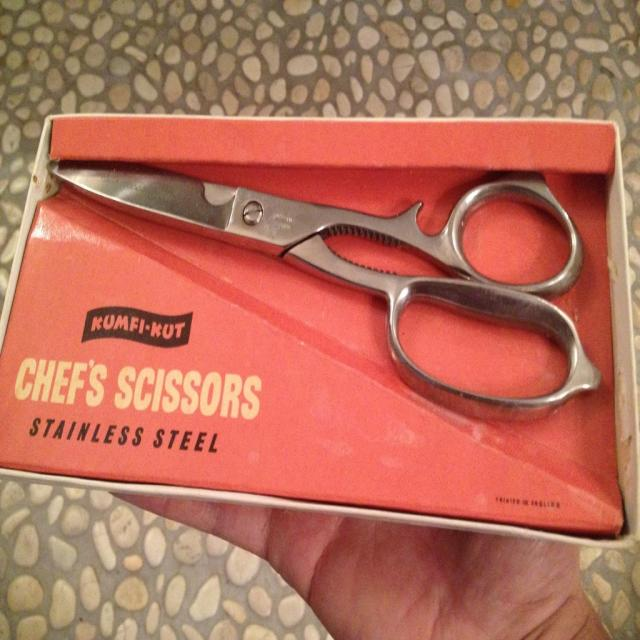scissors: (48, 158, 602, 418)
